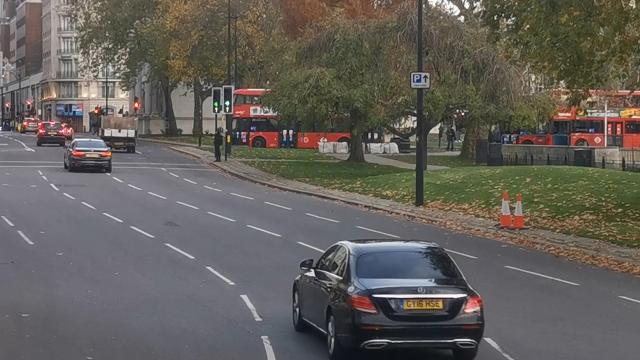bus: (226, 84, 382, 148)
car: (287, 238, 488, 359), (63, 139, 114, 175), (37, 120, 66, 147), (22, 116, 42, 132)
truck: (97, 111, 141, 152)
